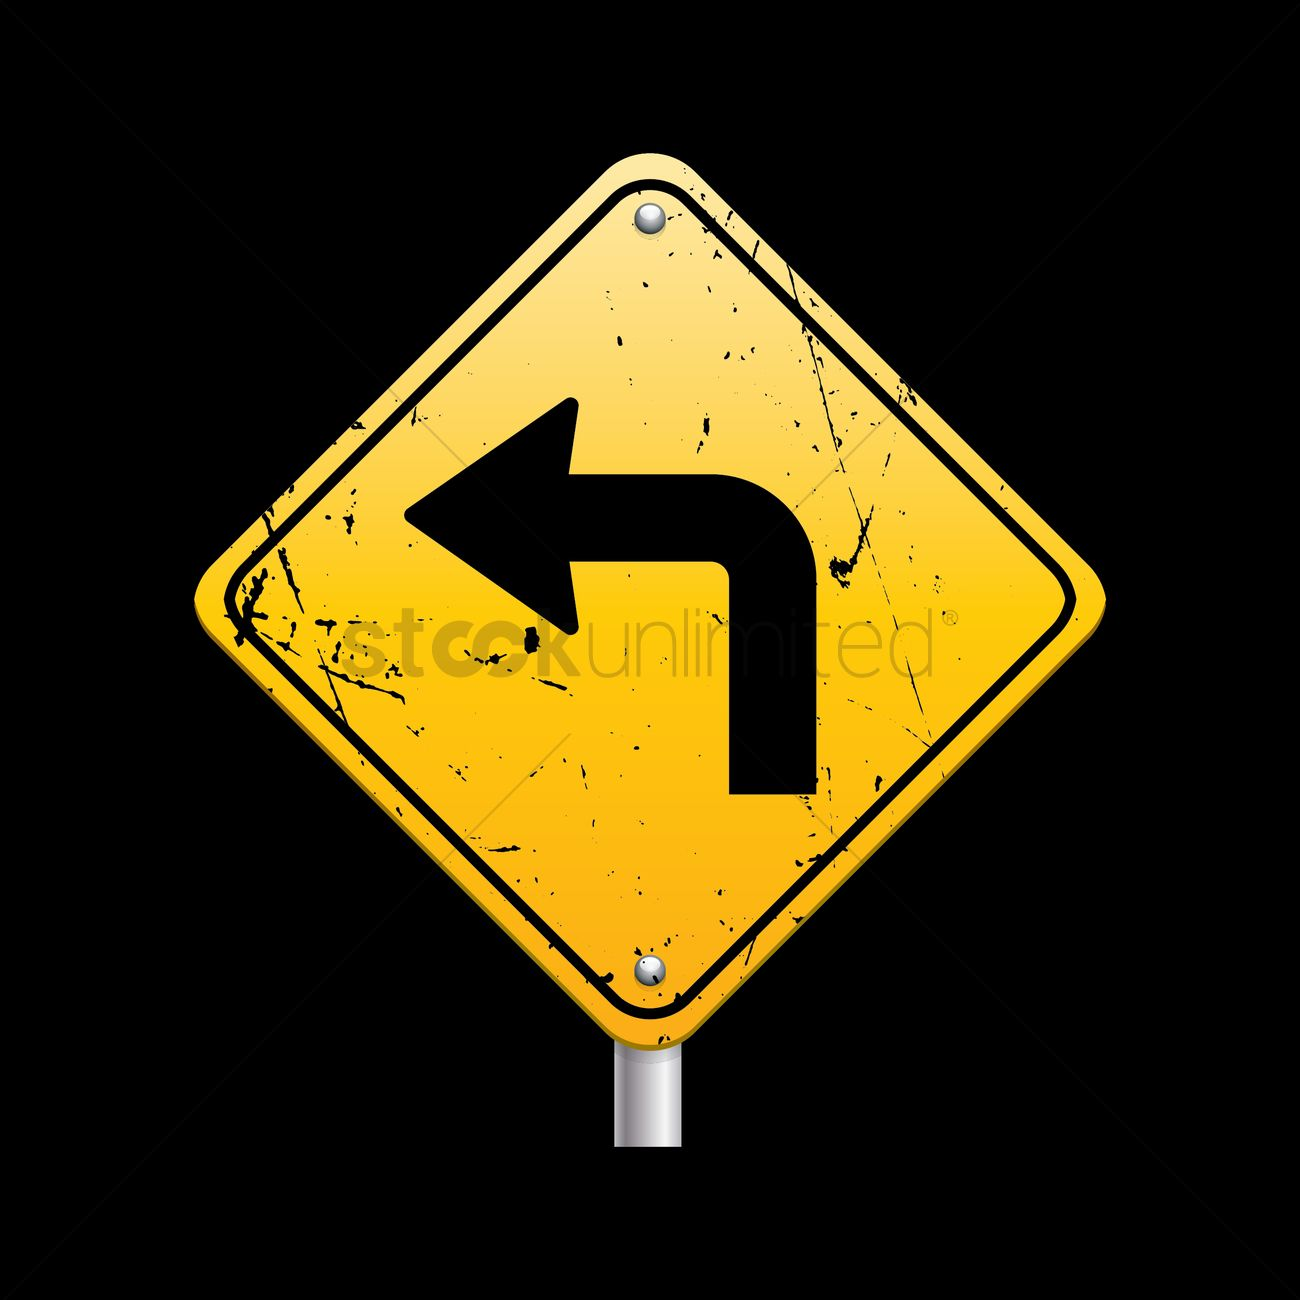left: (181, 146, 1105, 1049)
